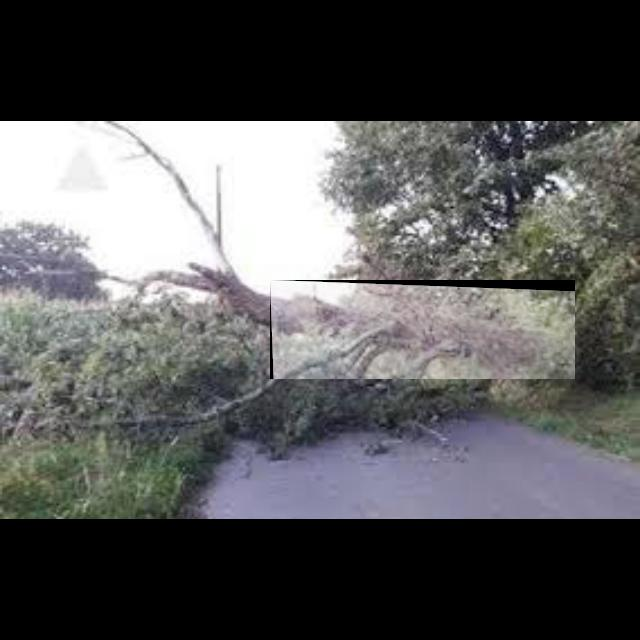Fallen Tree: (270, 280, 576, 380)
